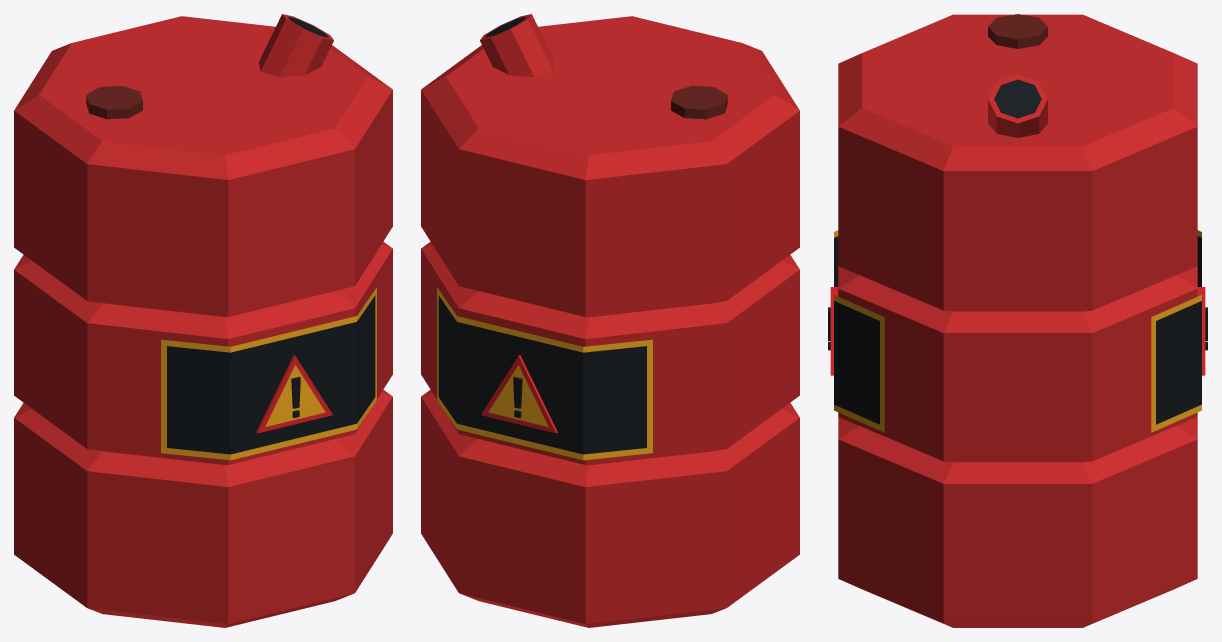
File: oilDrumA.FBX
The picture shows the model from 3 angles, left to right: view 1: azimuth 30°, elevation 25°; view 2: azimuth 150°, elevation 25°; view 3: azimuth 270°, elevation 25°; orthographic projection.
Parts seen in each view (by area): view 1: oilDrumA; view 2: oilDrumA; view 3: oilDrumA.
Part boxes in pixels (bbox=[...]): oilDrumA: bbox=[14, 14, 392, 627]; oilDrumA: bbox=[421, 14, 799, 627]; oilDrumA: bbox=[828, 14, 1207, 627].
Size of the model in its own units: 3.19 by 5.18 by 3.37.
